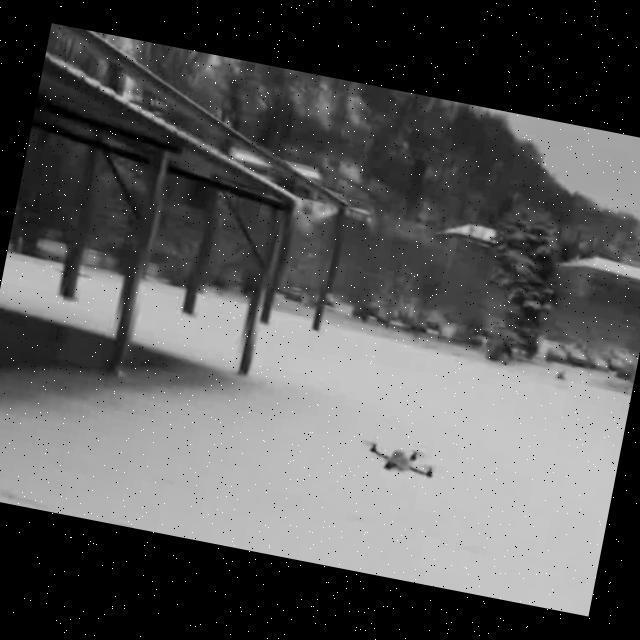Drons: (348, 426, 448, 491)
